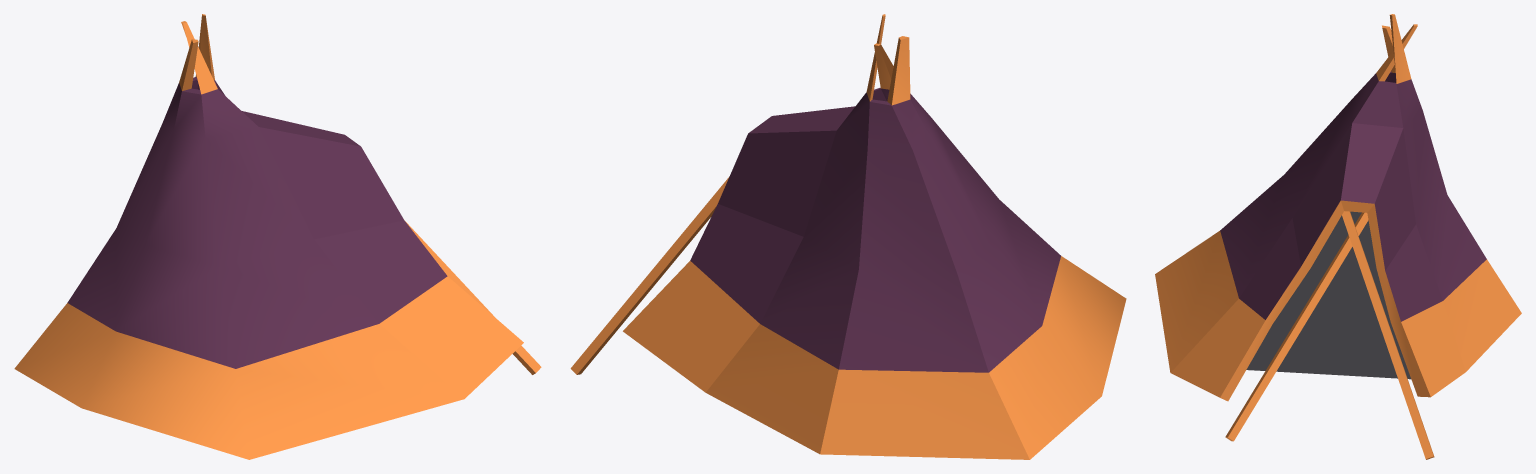
Rendered from tent_2.fbx.
3 views of the same model, side by side, from view 1: azimuth 30°, elevation 25°; view 2: azimuth 150°, elevation 25°; view 3: azimuth 270°, elevation 25° (orthographic). The views are drawn at different scales.
Parts seen in each view (by area): view 1: pCube1, pCube3; view 2: pCube1, pCube2; view 3: pCube1, pCube4, pCube3, pCube2.
Part boxes in pixels (x1,y1,x2,y2): pCube1: (14,14,523,459); pCube3: (405,221,541,374); pCube1: (623,14,1126,459); pCube2: (570,176,729,374); pCube1: (1155,14,1521,401); pCube4: (1246,211,1410,379); pCube3: (1225,212,1368,441); pCube2: (1342,211,1434,459).
Size of the model in its own units: 437 by 368 by 367.
